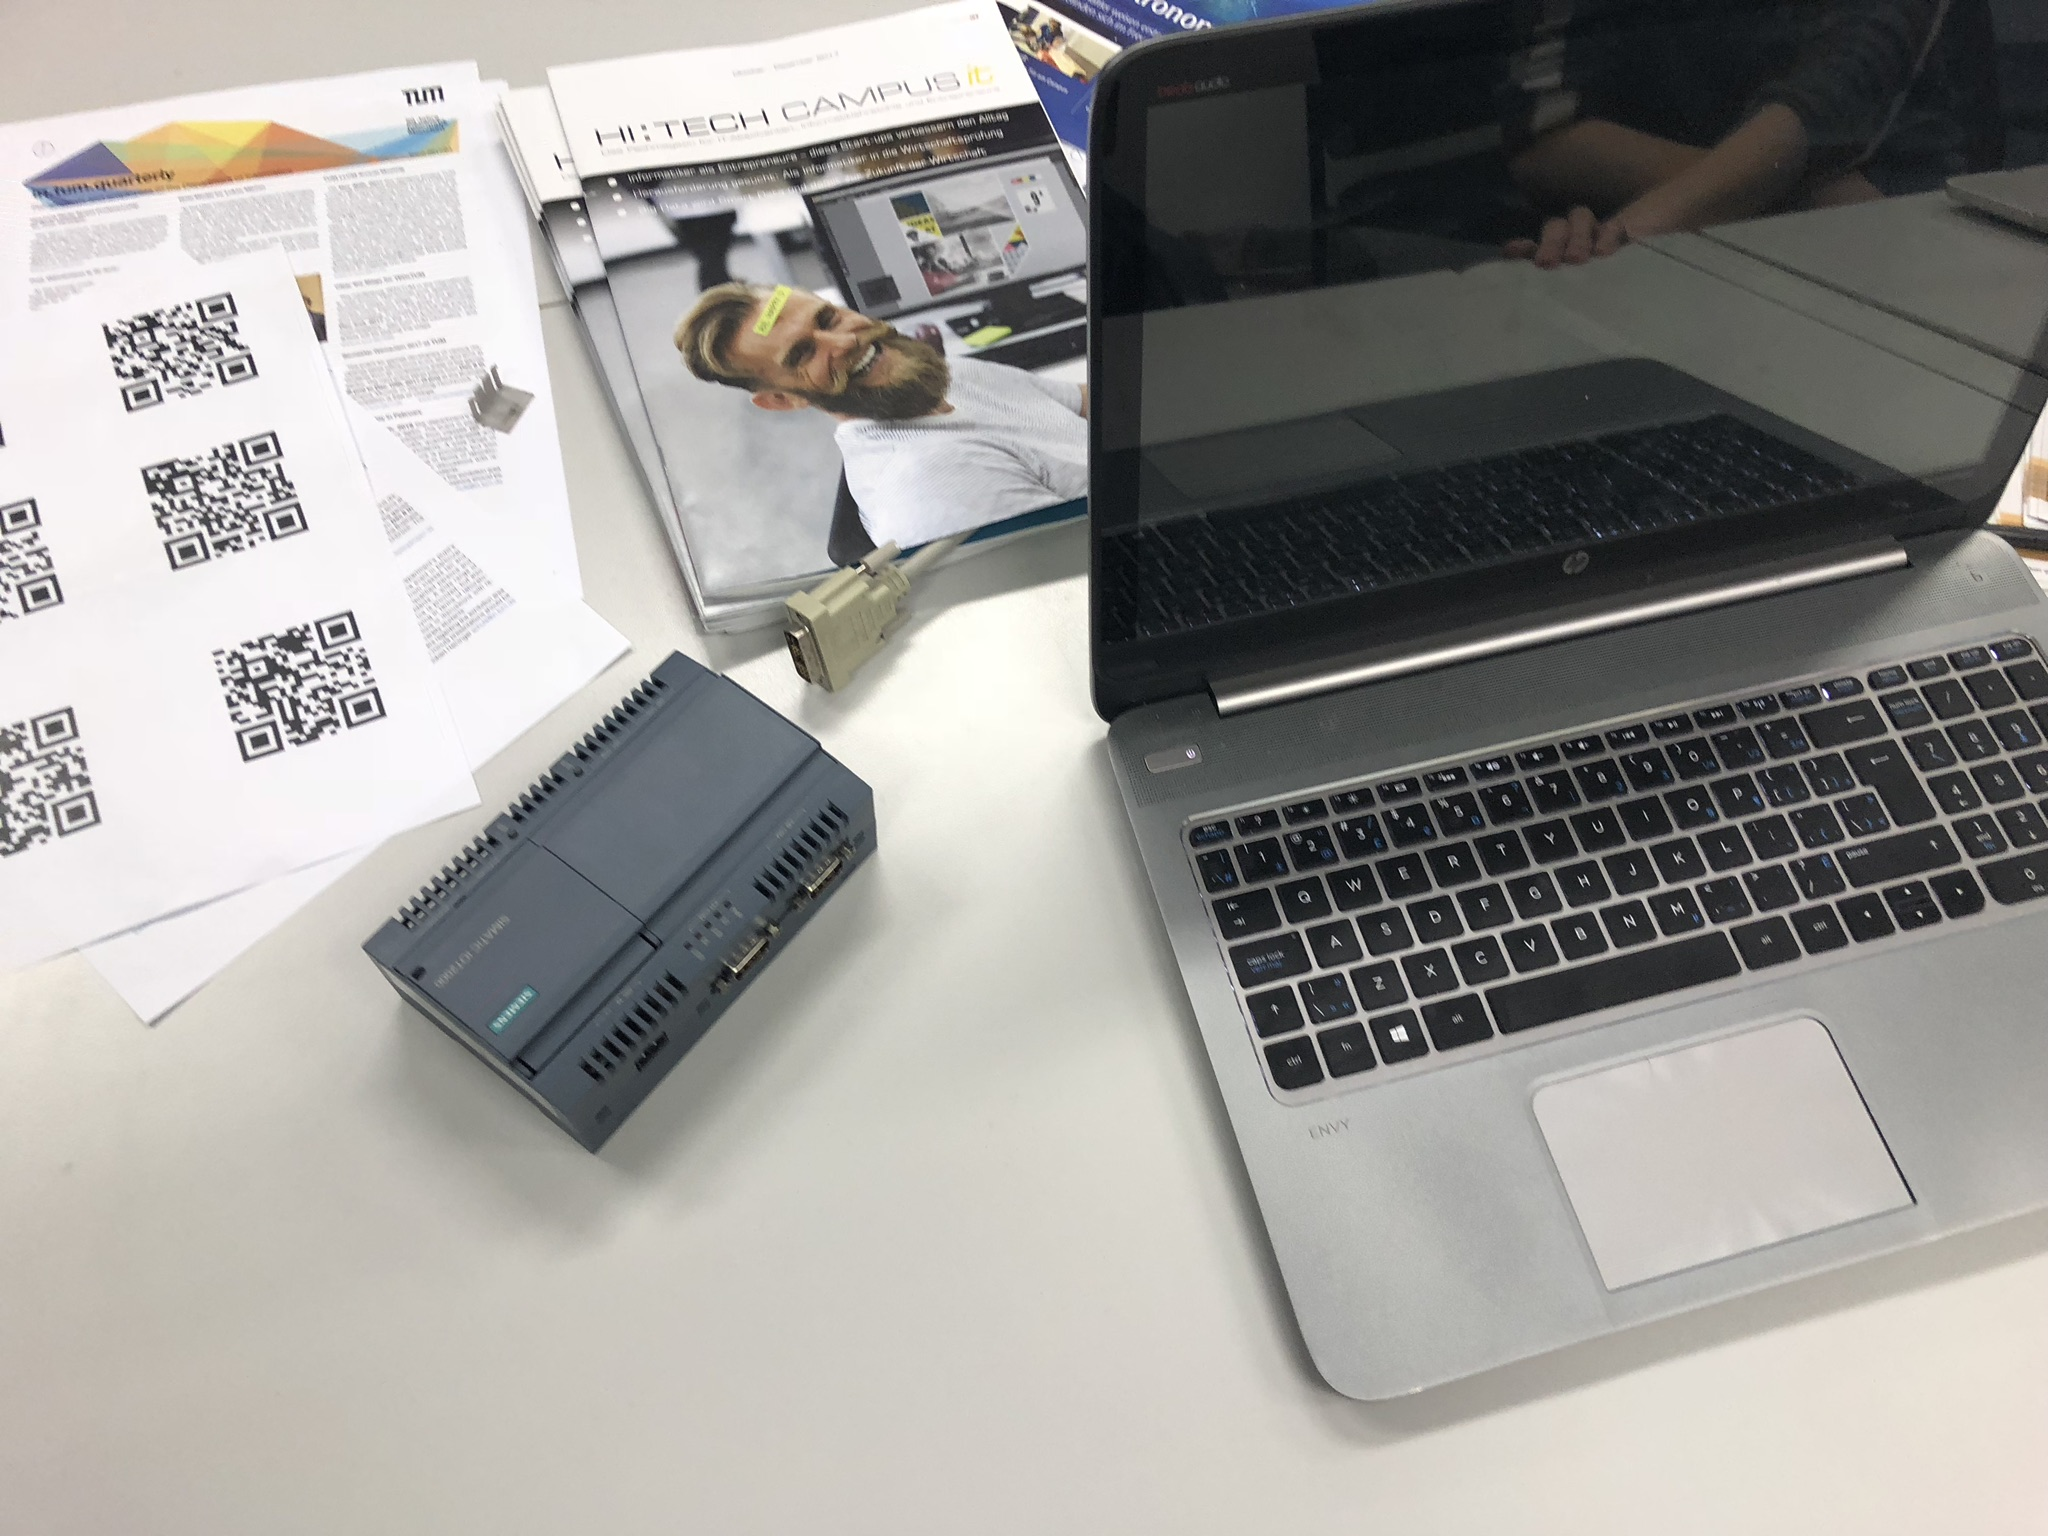device: (360, 649, 879, 1155)
